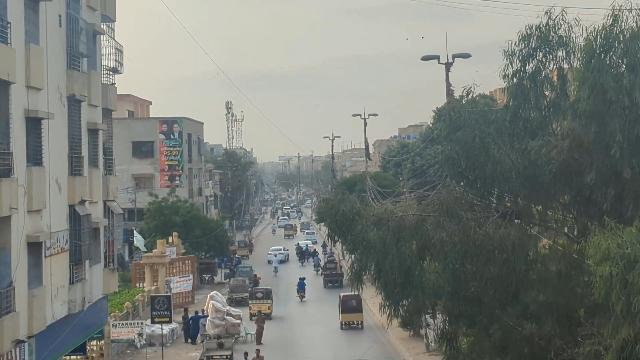Bike: (297, 289, 305, 302), (313, 262, 320, 275)
Cart: (201, 337, 237, 360)
Person: (252, 309, 266, 344), (295, 276, 307, 290), (312, 253, 320, 264)
Rickshaw: (337, 292, 364, 331), (248, 288, 275, 320)
Suzuki: (321, 260, 344, 289), (228, 277, 249, 305)
